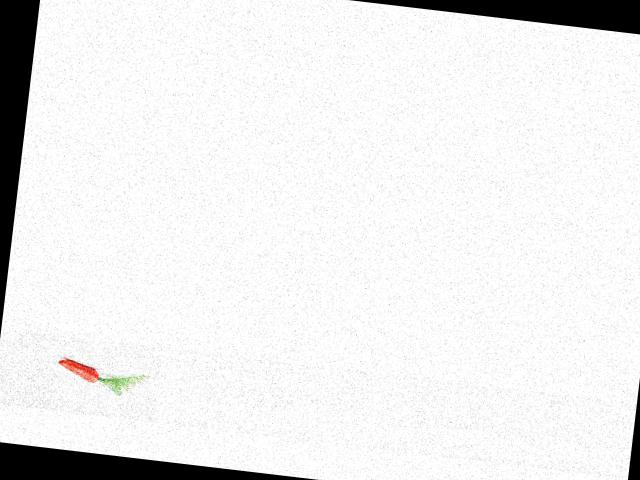carrot: (53, 350, 104, 385)
